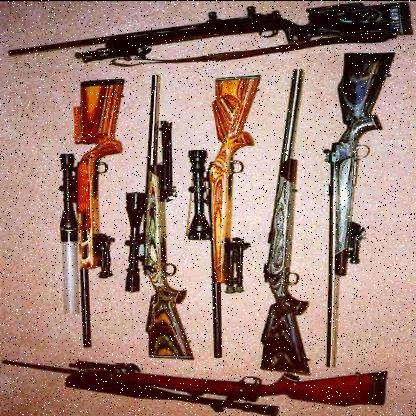rifle: (316, 46, 415, 384), (1, 0, 410, 69), (0, 349, 409, 416), (178, 70, 267, 357), (59, 71, 137, 349), (249, 63, 316, 384), (126, 68, 194, 373)
